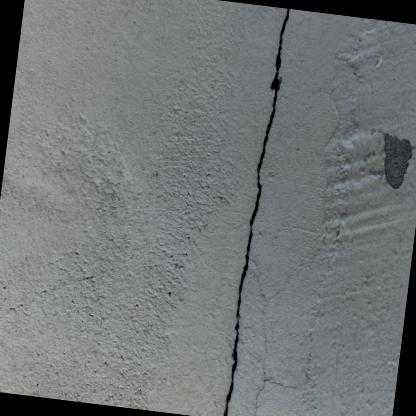crack: (223, 8, 289, 416), (254, 379, 295, 416)
